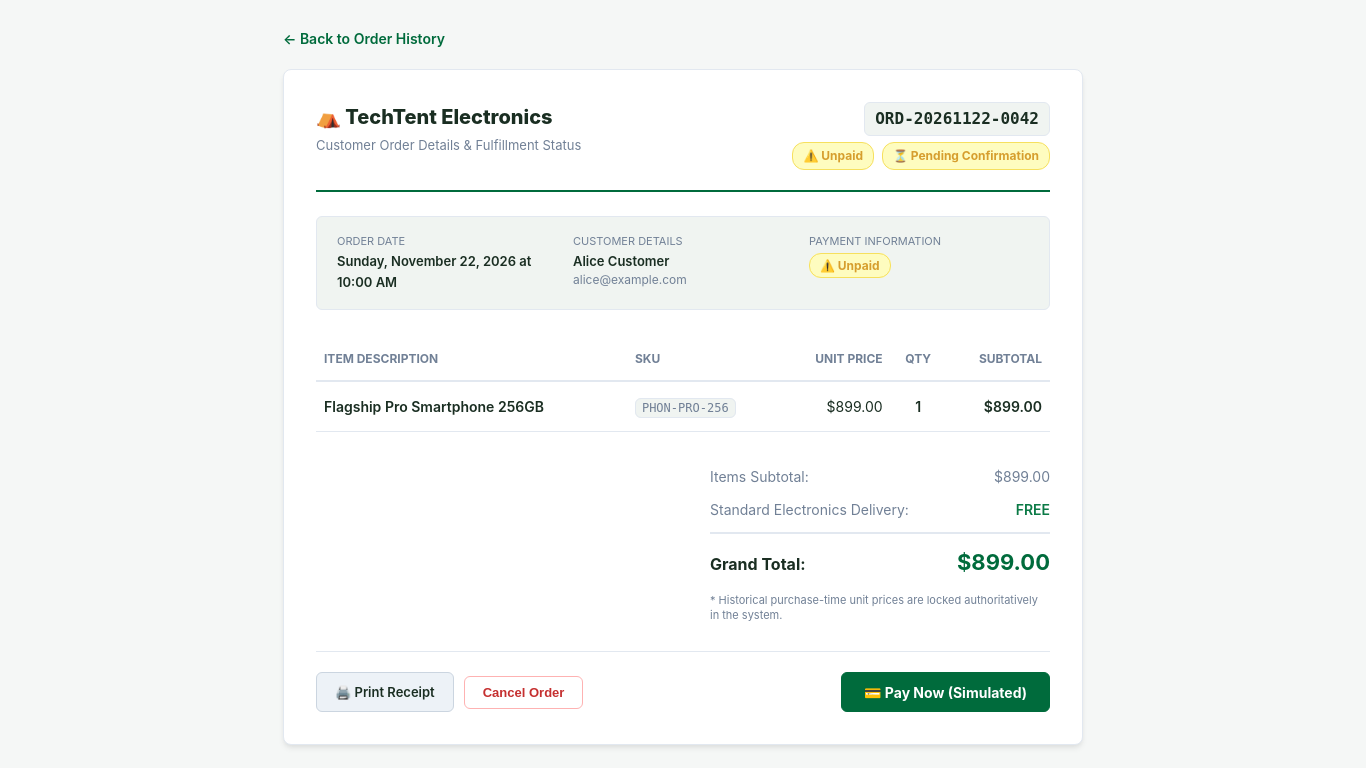
Test: Feature 7: Customer Order Cancellation Component (F-07) › displays error banner in modal when cancellation API returns 409 conflict
Expected: the text "ORD-20261122-0042" is shown, 864,102 -> 1050,136
Click the button with test id "cancel-order-btn": (524, 692) 464,676 -> 583,709
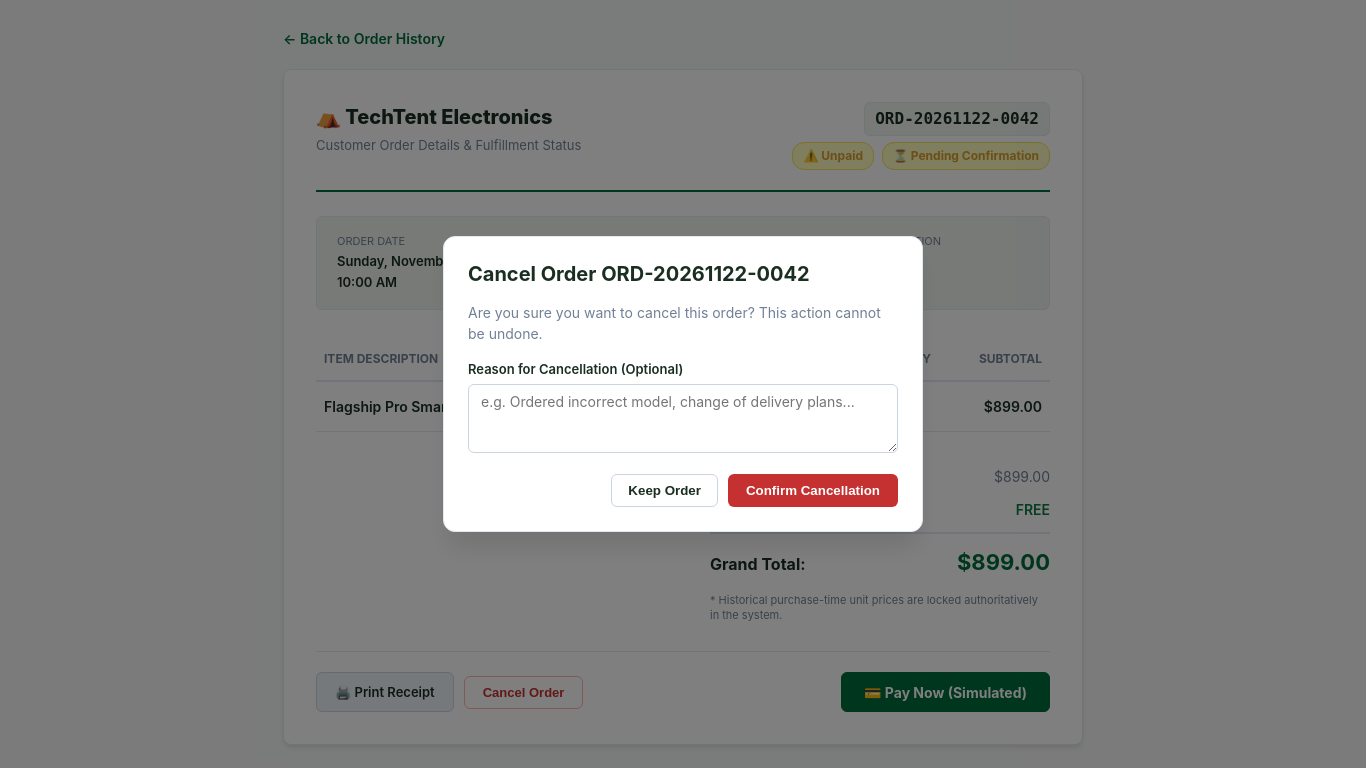
Click the button with test id "confirm-cancel-btn": (813, 490) 728,474 -> 898,507
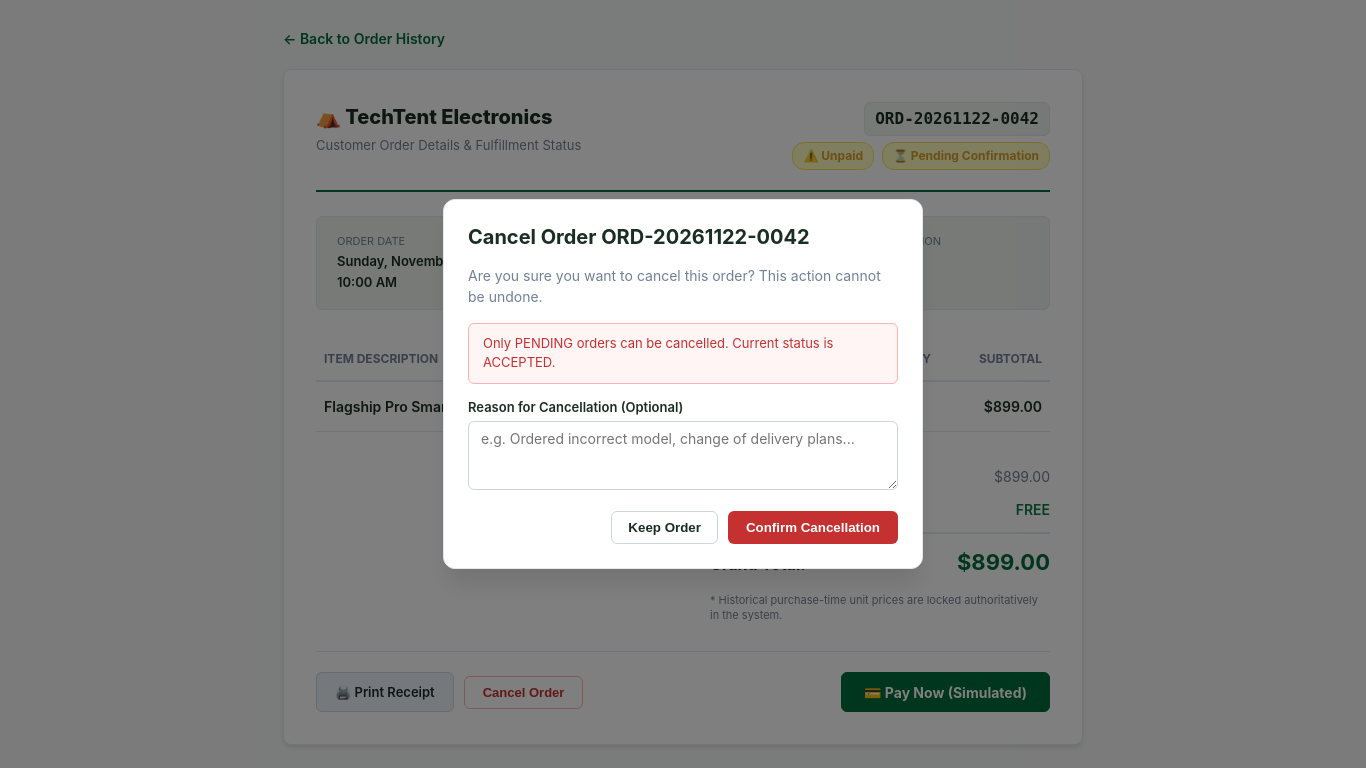
Expected: the text with test id "cancel-error-banner" is shown, 468,323 -> 898,384
Expected: the text with test id "cancel-error-banner" reads "Only PENDING orders can be cancelled. Current status is ACCEPTED.", 483,335 -> 833,370
